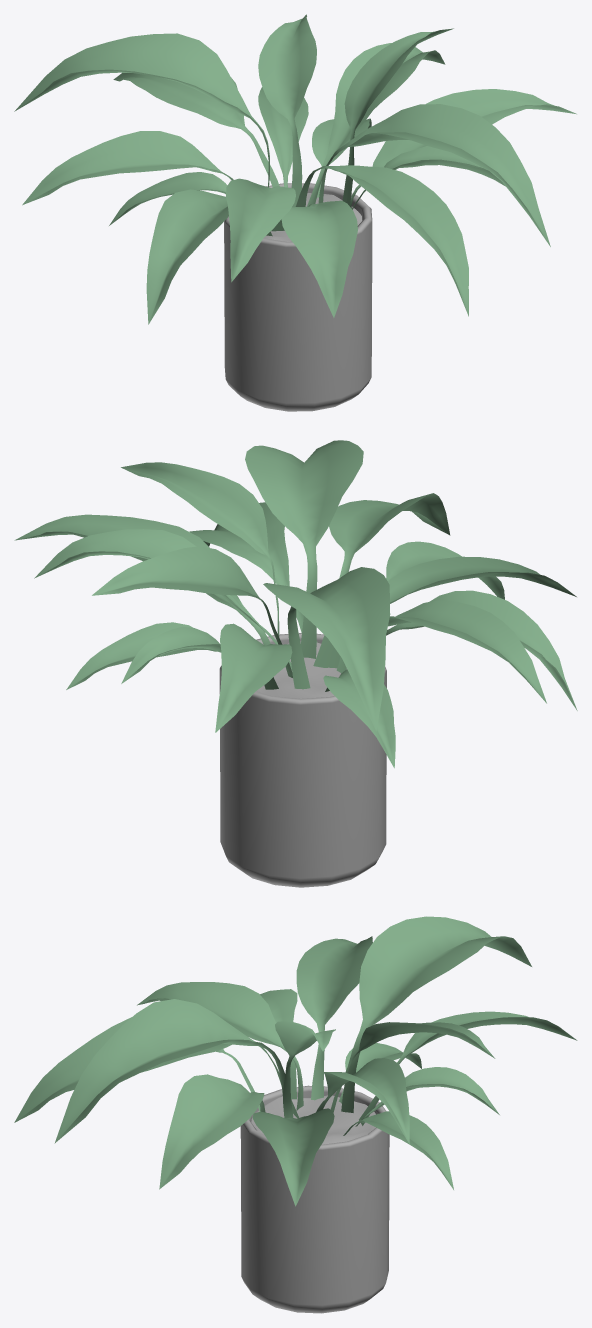
File: Plant.fbx
The picture shows the model from 3 angles, top to bottom: view 1: azimuth 30°, elevation 25°; view 2: azimuth 150°, elevation 25°; view 3: azimuth 270°, elevation 25°; orthographic projection. The views are drawn at different scales.
Visible parts, largest first — view 1: Leaf; view 2: Leaf; view 3: Leaf.
Boxes of the visible parts, <box> form: Leaf: <box>14,14,576,411</box>; Leaf: <box>14,440,577,887</box>; Leaf: <box>14,916,577,1313</box>.
Size of the model in its own units: 214 by 128 by 203.
